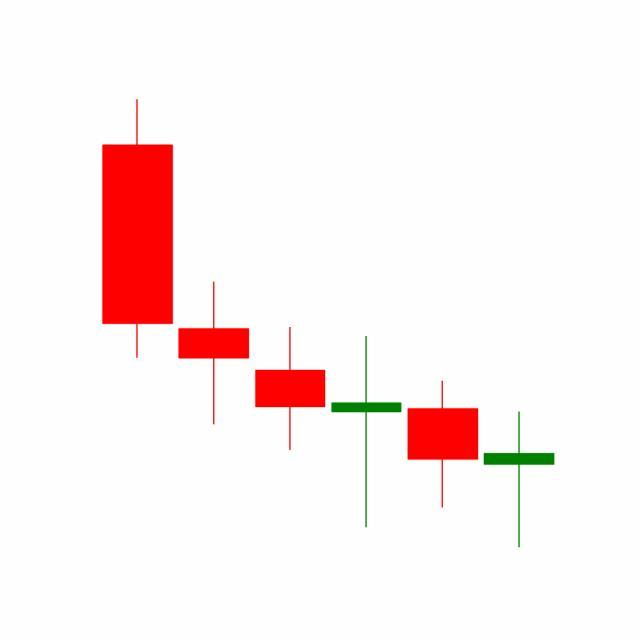Hikkake Pattern: (175, 278, 555, 548)
